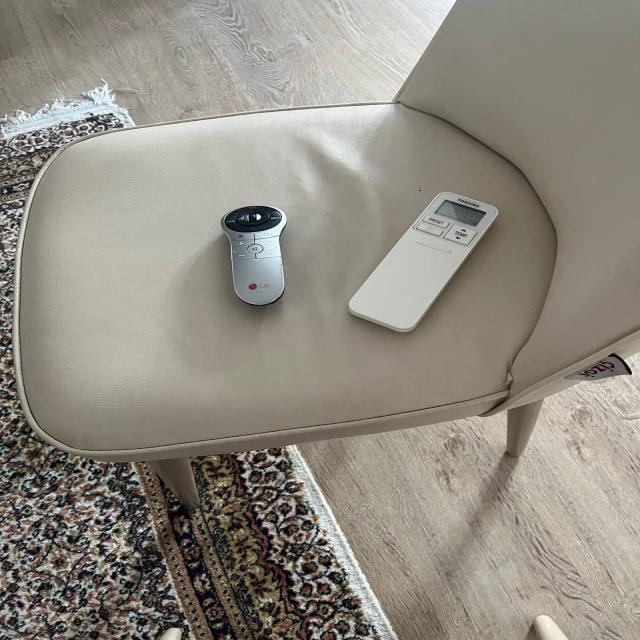remote: (350, 173, 498, 347), (212, 197, 294, 313)
